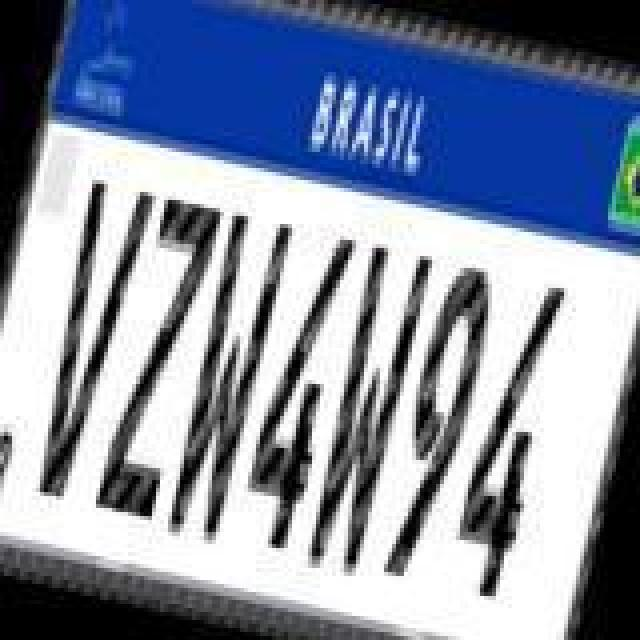4: (444, 268, 580, 612), (228, 224, 364, 560)
9: (372, 256, 508, 592)
V: (18, 176, 158, 512)
W: (154, 206, 294, 546), (300, 236, 436, 580)
Z: (92, 192, 228, 528)
